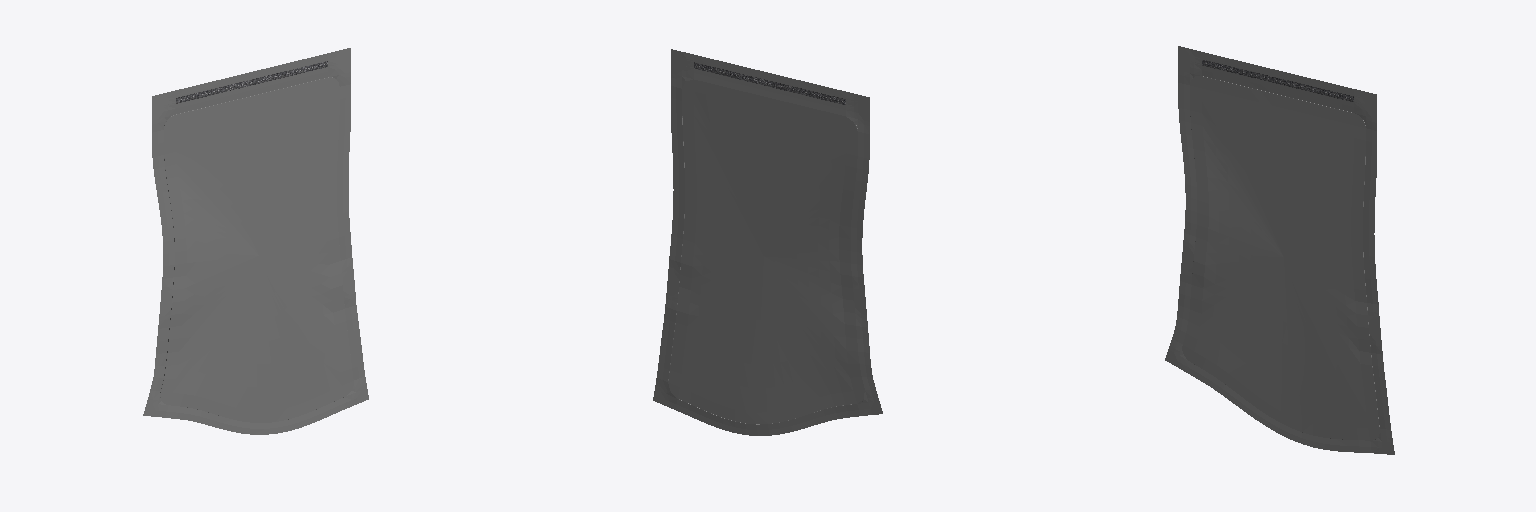
3 views of the same model, side by side, from view 1: azimuth 30°, elevation 25°; view 2: azimuth 150°, elevation 25°; view 3: azimuth 330°, elevation 25° (orthographic).
Visible parts, largest first — view 1: block3; view 2: block3; view 3: block3.
Boxes of the visible parts, x1,y1,x2,y2 form: block3: [143, 48, 368, 434]; block3: [653, 49, 882, 435]; block3: [1165, 46, 1394, 454].
Size of the model in its own units: 97.36 by 150 by 1.98.
4 materials, 1 textured.